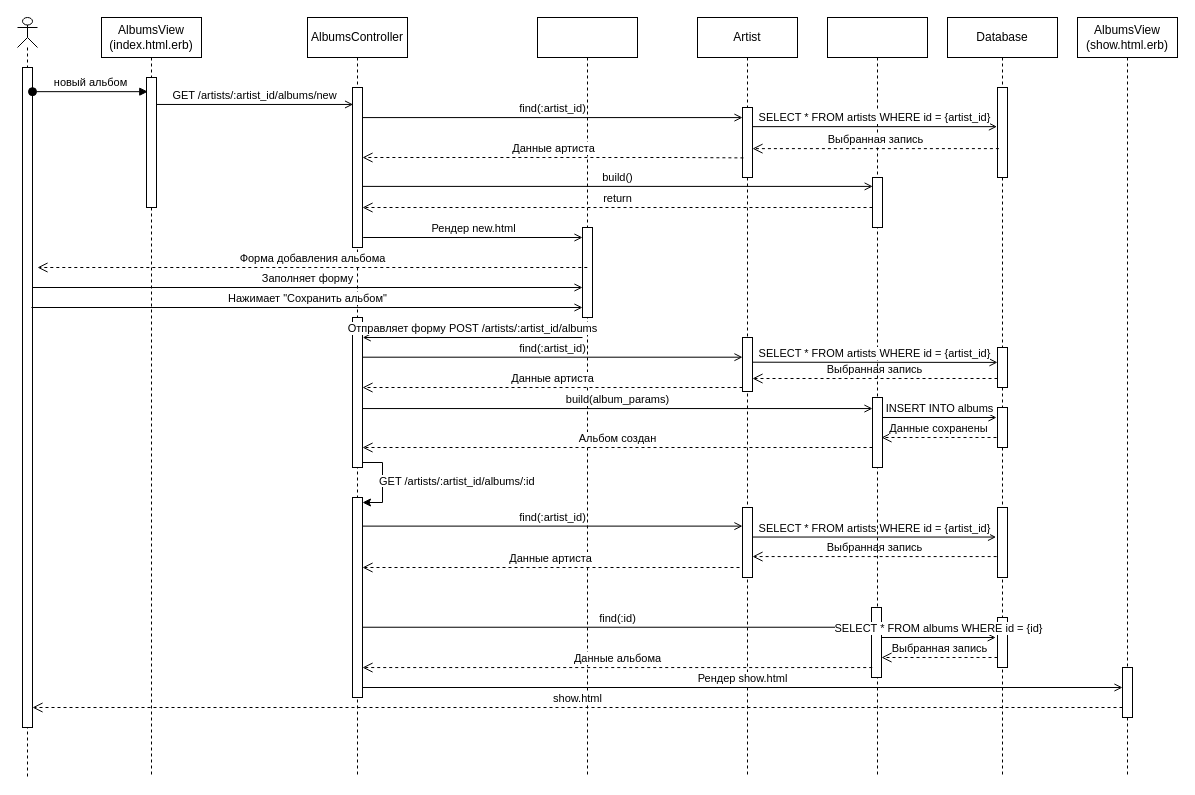
The diagram is 1195 pixels wide and 795 high, and some of its shapes have lost their labels. The shapes that lost their labels are listed below. From the top down, each one's centre as x and y in pixels, then its label:
At (x=587, y=397): "AlbumsView (new.html.erb)".
At (x=877, y=397): "Album".
